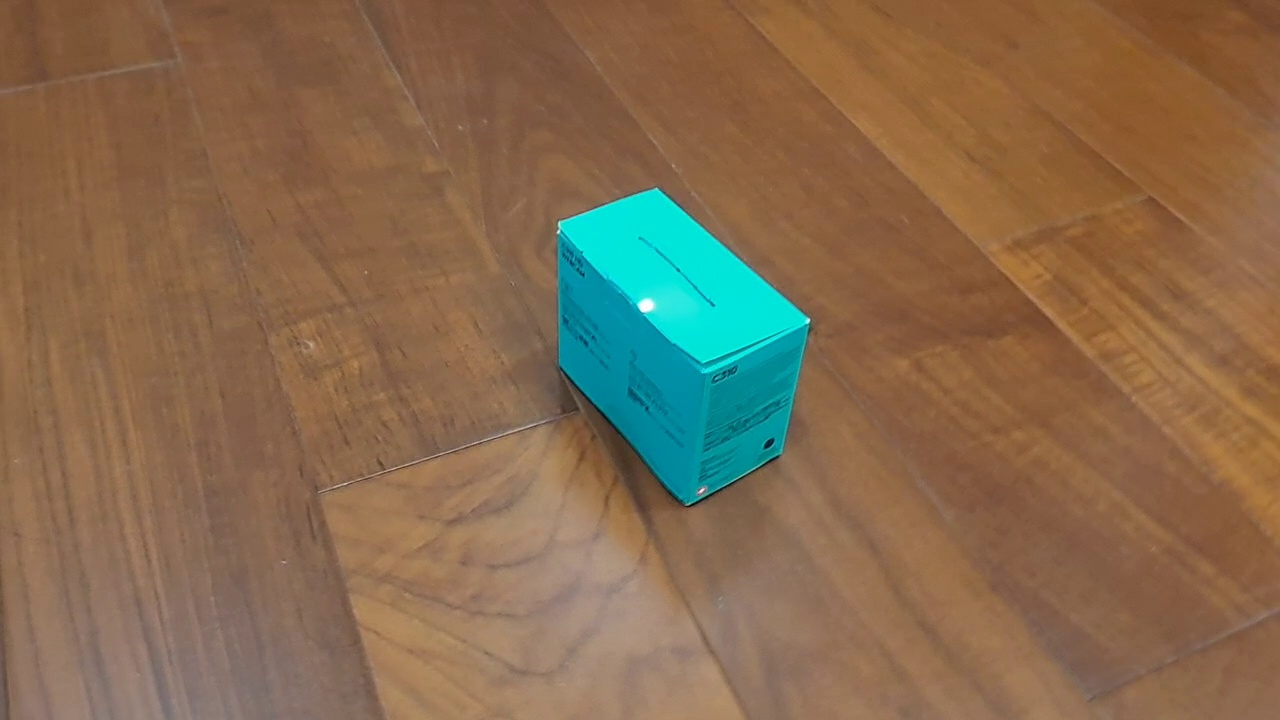webcam: (555, 186, 812, 509)
